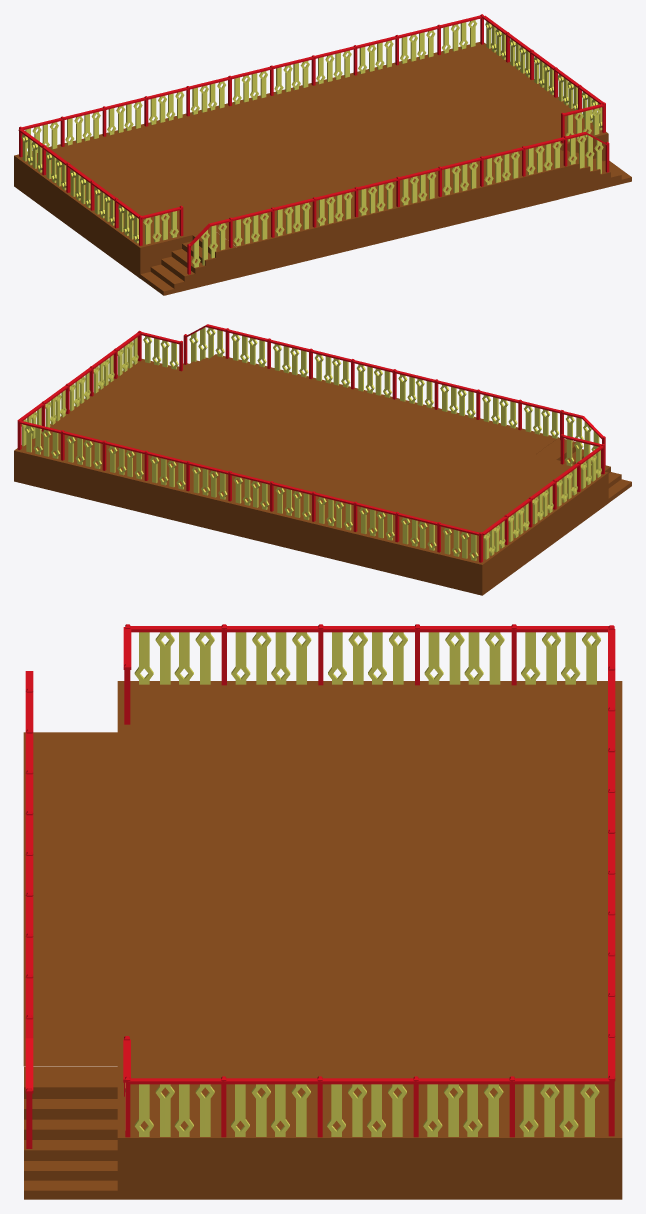
Rendered from platform.fbx.
The picture shows the model from 3 angles, top to bottom: view 1: azimuth 30°, elevation 25°; view 2: azimuth 150°, elevation 25°; view 3: azimuth 270°, elevation 25°; orthographic projection. The views are drawn at different scales.
Parts seen in each view (by area): view 1: Platform, Platform Back Fence, Platform Stair Fence; view 2: Platform, Platform Back Fence, Platform Stair Fence; view 3: Platform, Platform Back Fence, Platform Stair Fence.
Boxes of the visible parts, x1,y1,x2,y2 form: Platform: (14, 42, 631, 295); Platform Back Fence: (18, 14, 605, 245); Platform Stair Fence: (187, 132, 609, 274); Platform: (14, 354, 631, 595); Platform Back Fence: (17, 330, 604, 562); Platform Stair Fence: (183, 324, 605, 465); Platform: (23, 681, 622, 1199); Platform Back Fence: (123, 624, 615, 1137); Platform Stair Fence: (25, 671, 33, 1148).
Size of the model in its own units: 1750 by 969 by 215.
